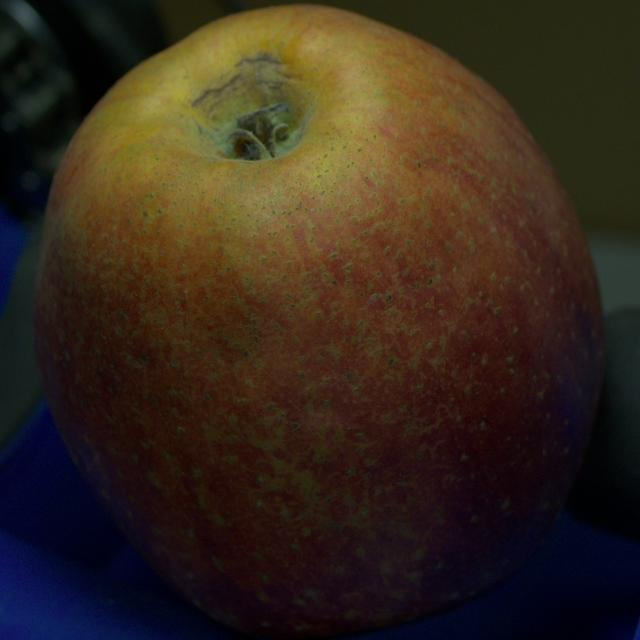apple: (35, 6, 604, 639)
scratch: (192, 74, 240, 106), (236, 51, 280, 70)
